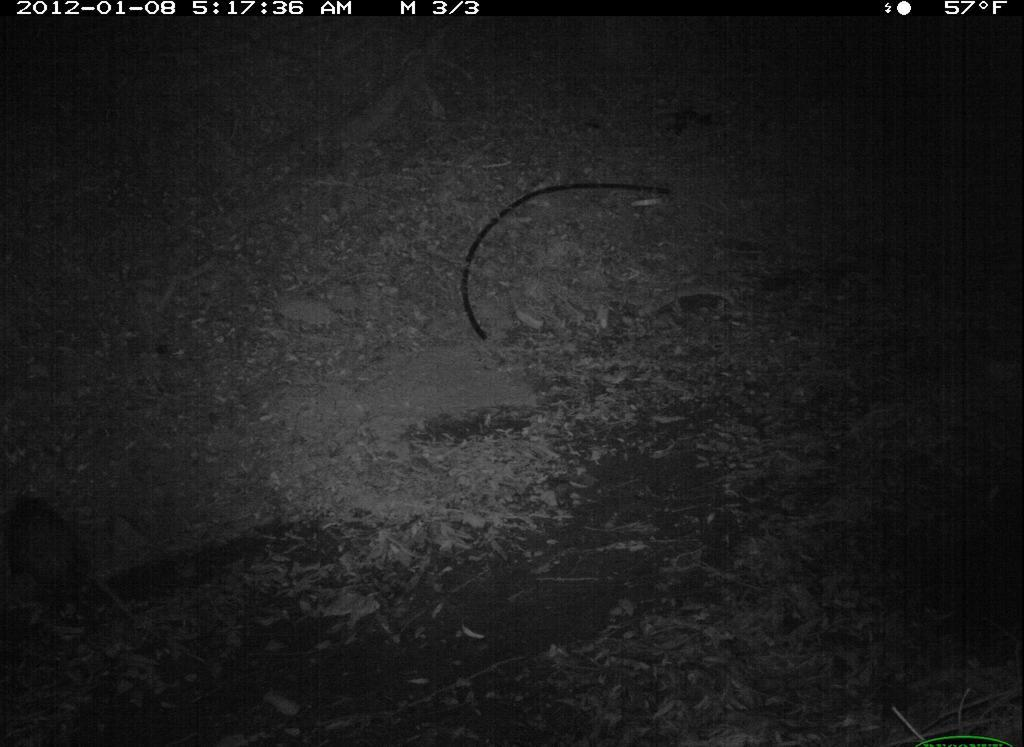opossum: (3, 473, 177, 666)
